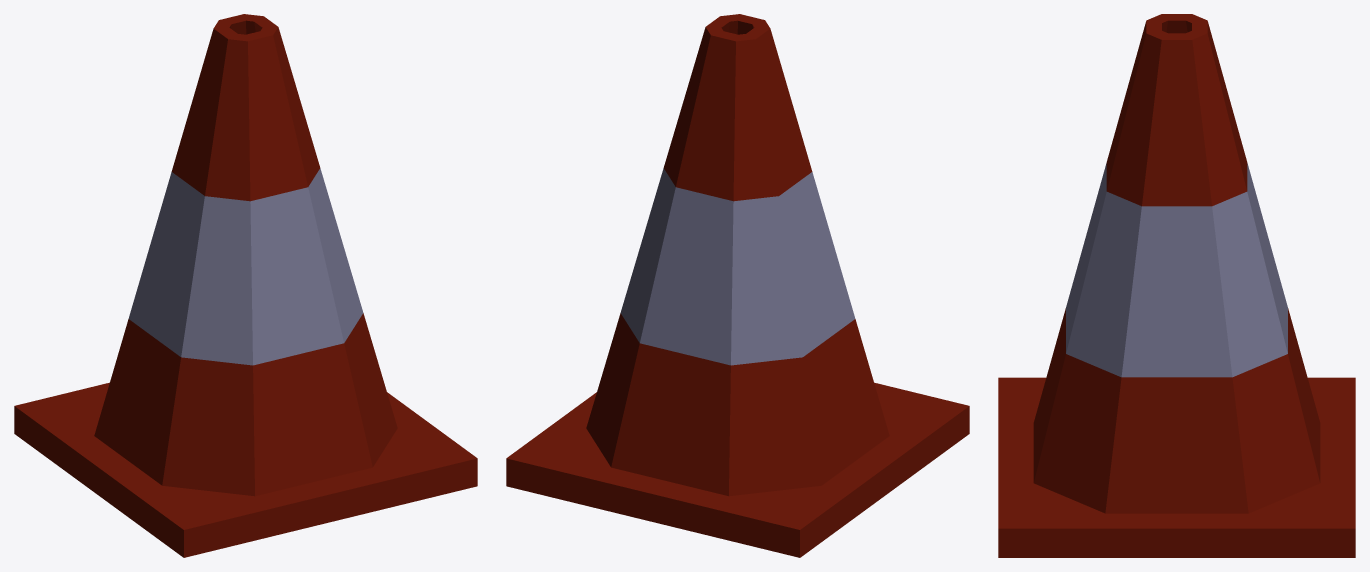
3 views of the same model, side by side, from view 1: azimuth 30°, elevation 25°; view 2: azimuth 150°, elevation 25°; view 3: azimuth 270°, elevation 25° (orthographic). The views are drawn at different scales.
Parts seen in each view (by area): view 1: Cone; view 2: Cone; view 3: Cone.
Boxes of the visible parts, left/top/right/bottom form: Cone: left=14, top=14, right=477, bottom=557; Cone: left=506, top=14, right=969, bottom=557; Cone: left=998, top=14, right=1355, bottom=557.
Bounding box in the file's own units: 2.24 × 3.15 × 2.24.
